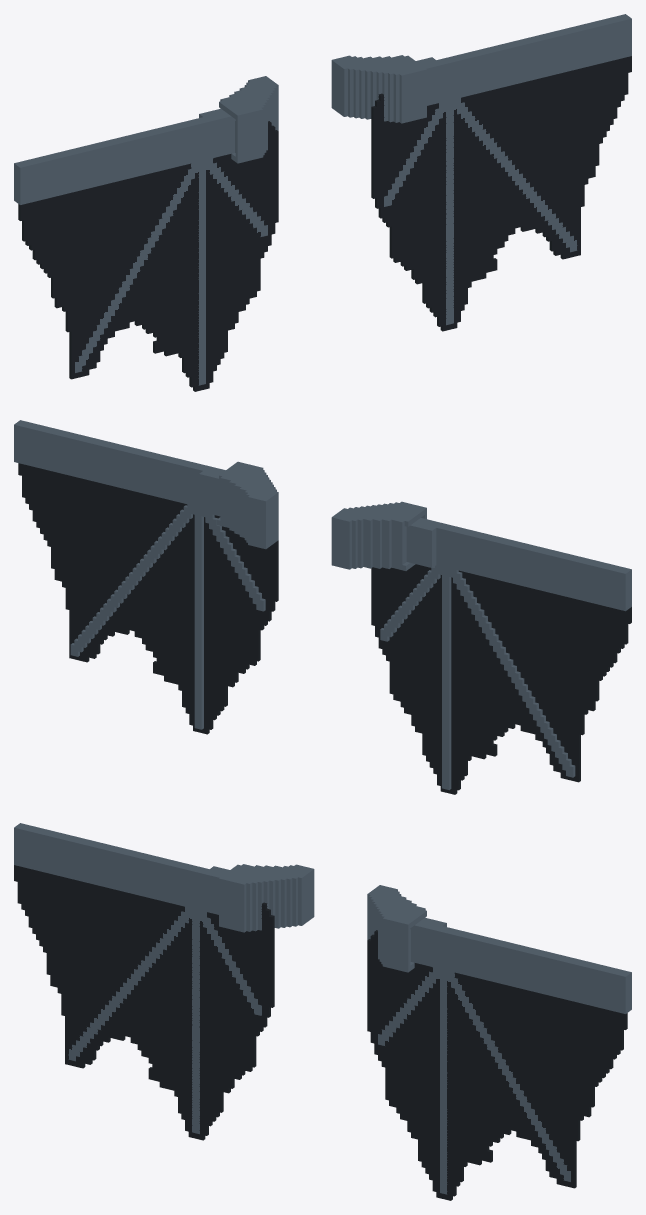
The model's file is 末影龙翅膀.gltf.
3 renders of one model, top to bottom at view 1: azimuth 30°, elevation 25°; view 2: azimuth 150°, elevation 25°; view 3: azimuth 330°, elevation 25°, orthographic.
Parts seen in each view (by area): view 1: Object; view 2: Object; view 3: Object.
Part boxes in pixels (x1=…): Object: x1=14, y1=14, x2=631, y2=391; Object: x1=14, y1=420, x2=631, y2=794; Object: x1=14, y1=823, x2=631, y2=1200.
Size of the model in its own units: 84 by 35.7 by 8.
1 material, 1 textured.
